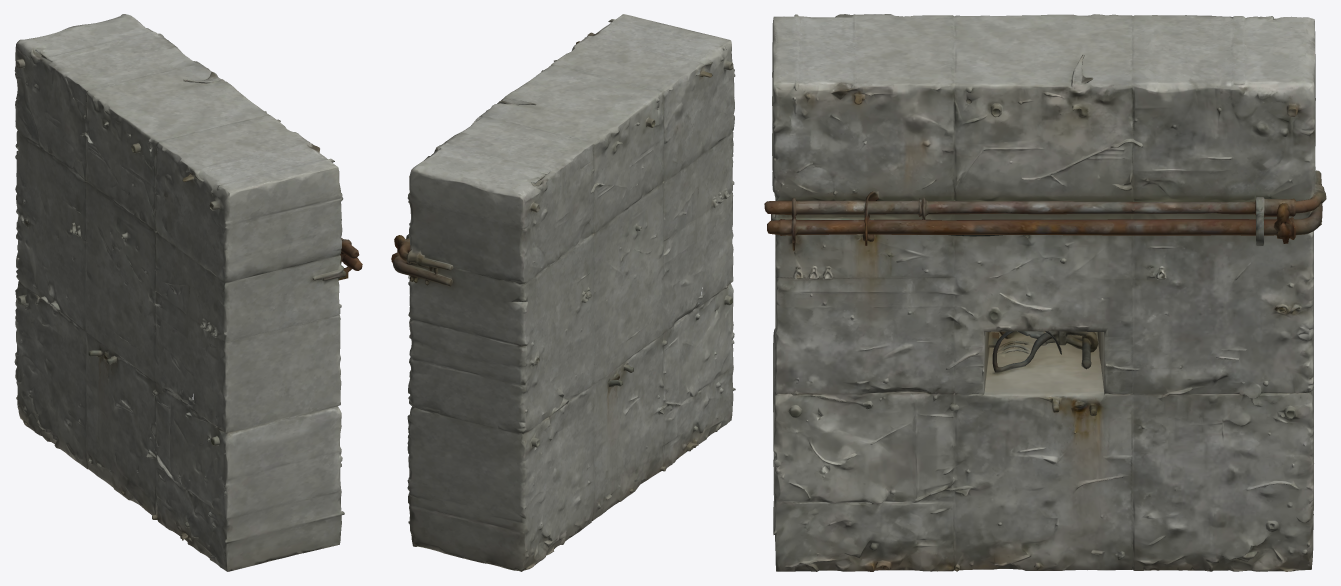
Rendered from 3D-модель+бетонной+бункерной+стены (1).glb.
3 views of the same model, side by side, from view 1: azimuth 30°, elevation 25°; view 2: azimuth 150°, elevation 25°; view 3: azimuth 270°, elevation 25° (orthographic). The views are drawn at different scales.
Parts seen in each view (by area): view 1: tripo_node_dd29610d-39a6-4f2b-9228-771c0f0735c4; view 2: tripo_node_dd29610d-39a6-4f2b-9228-771c0f0735c4; view 3: tripo_node_dd29610d-39a6-4f2b-9228-771c0f0735c4.
Part boxes in pixels (left/top/right/bottom): tripo_node_dd29610d-39a6-4f2b-9228-771c0f0735c4: left=14, top=14, right=362, bottom=571; tripo_node_dd29610d-39a6-4f2b-9228-771c0f0735c4: left=391, top=14, right=735, bottom=571; tripo_node_dd29610d-39a6-4f2b-9228-771c0f0735c4: left=764, top=14, right=1326, bottom=571.
Bounding box in the file's own units: 0.4216 × 0.9586 × 0.9849.
1 material, 1 textured.
